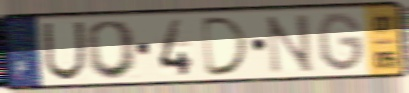4: (157, 17, 194, 79)
D: (200, 14, 253, 79)
G: (316, 10, 366, 74)
N: (264, 12, 317, 76)
O: (85, 18, 141, 82)
U: (41, 19, 88, 82)
